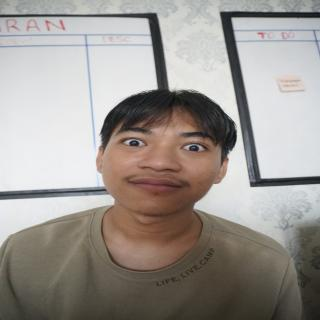Marah: (100, 103, 222, 220)
